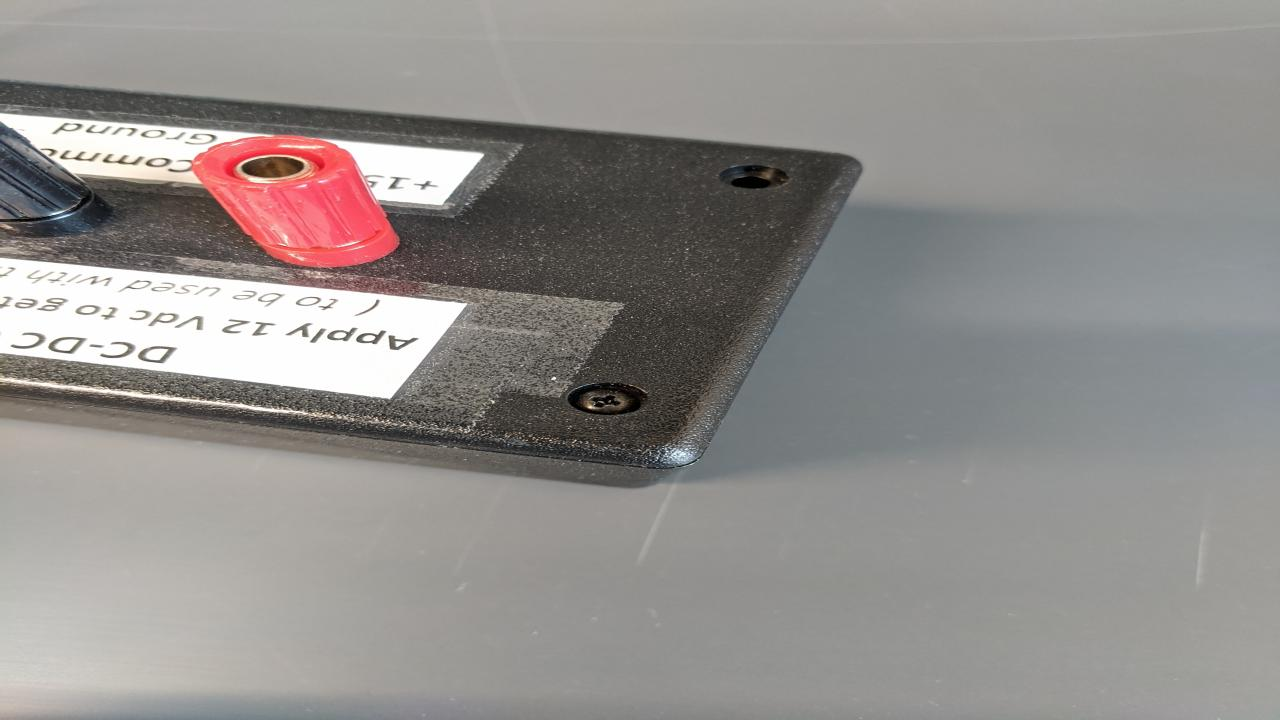CRS: (566, 385, 643, 415)
